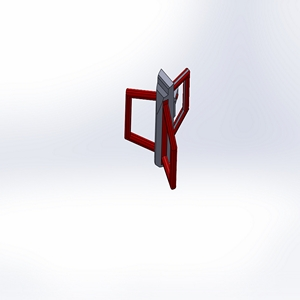submarine: (100, 63, 229, 200)
